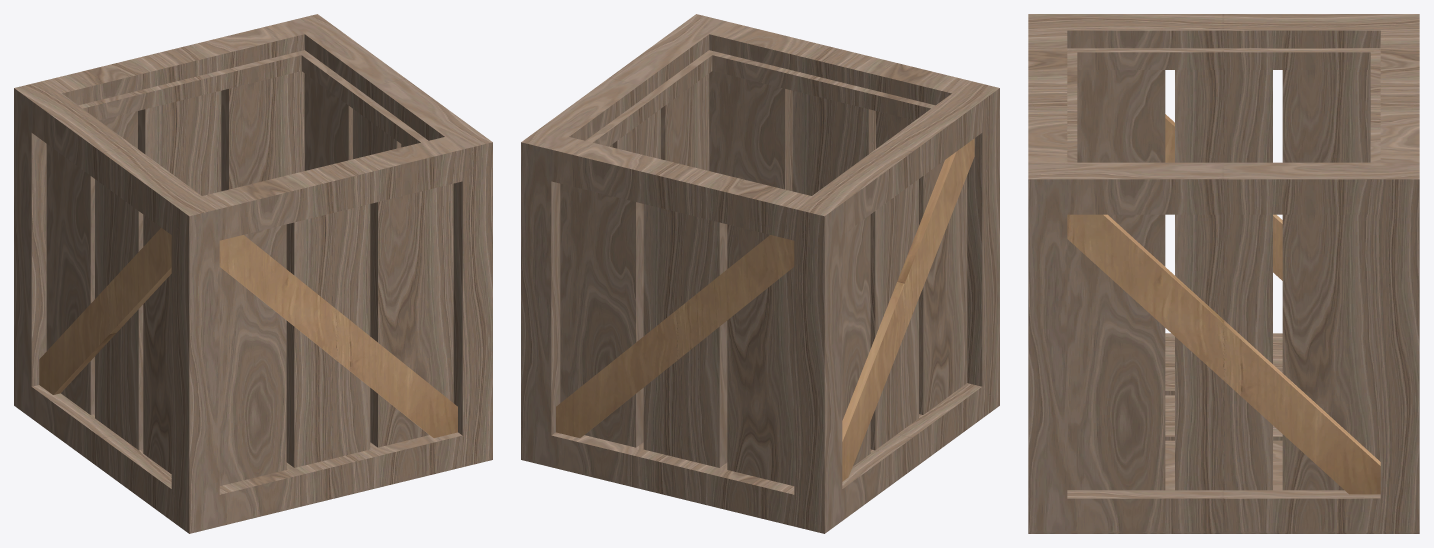
Rendered from OpenCrate.obj.
3 views of the same model, side by side, from view 1: azimuth 30°, elevation 25°; view 2: azimuth 150°, elevation 25°; view 3: azimuth 270°, elevation 25° (orthographic). The views are drawn at different scales.
Size of the model in its own units: 1 by 1 by 1.
3 materials, 3 textured.
